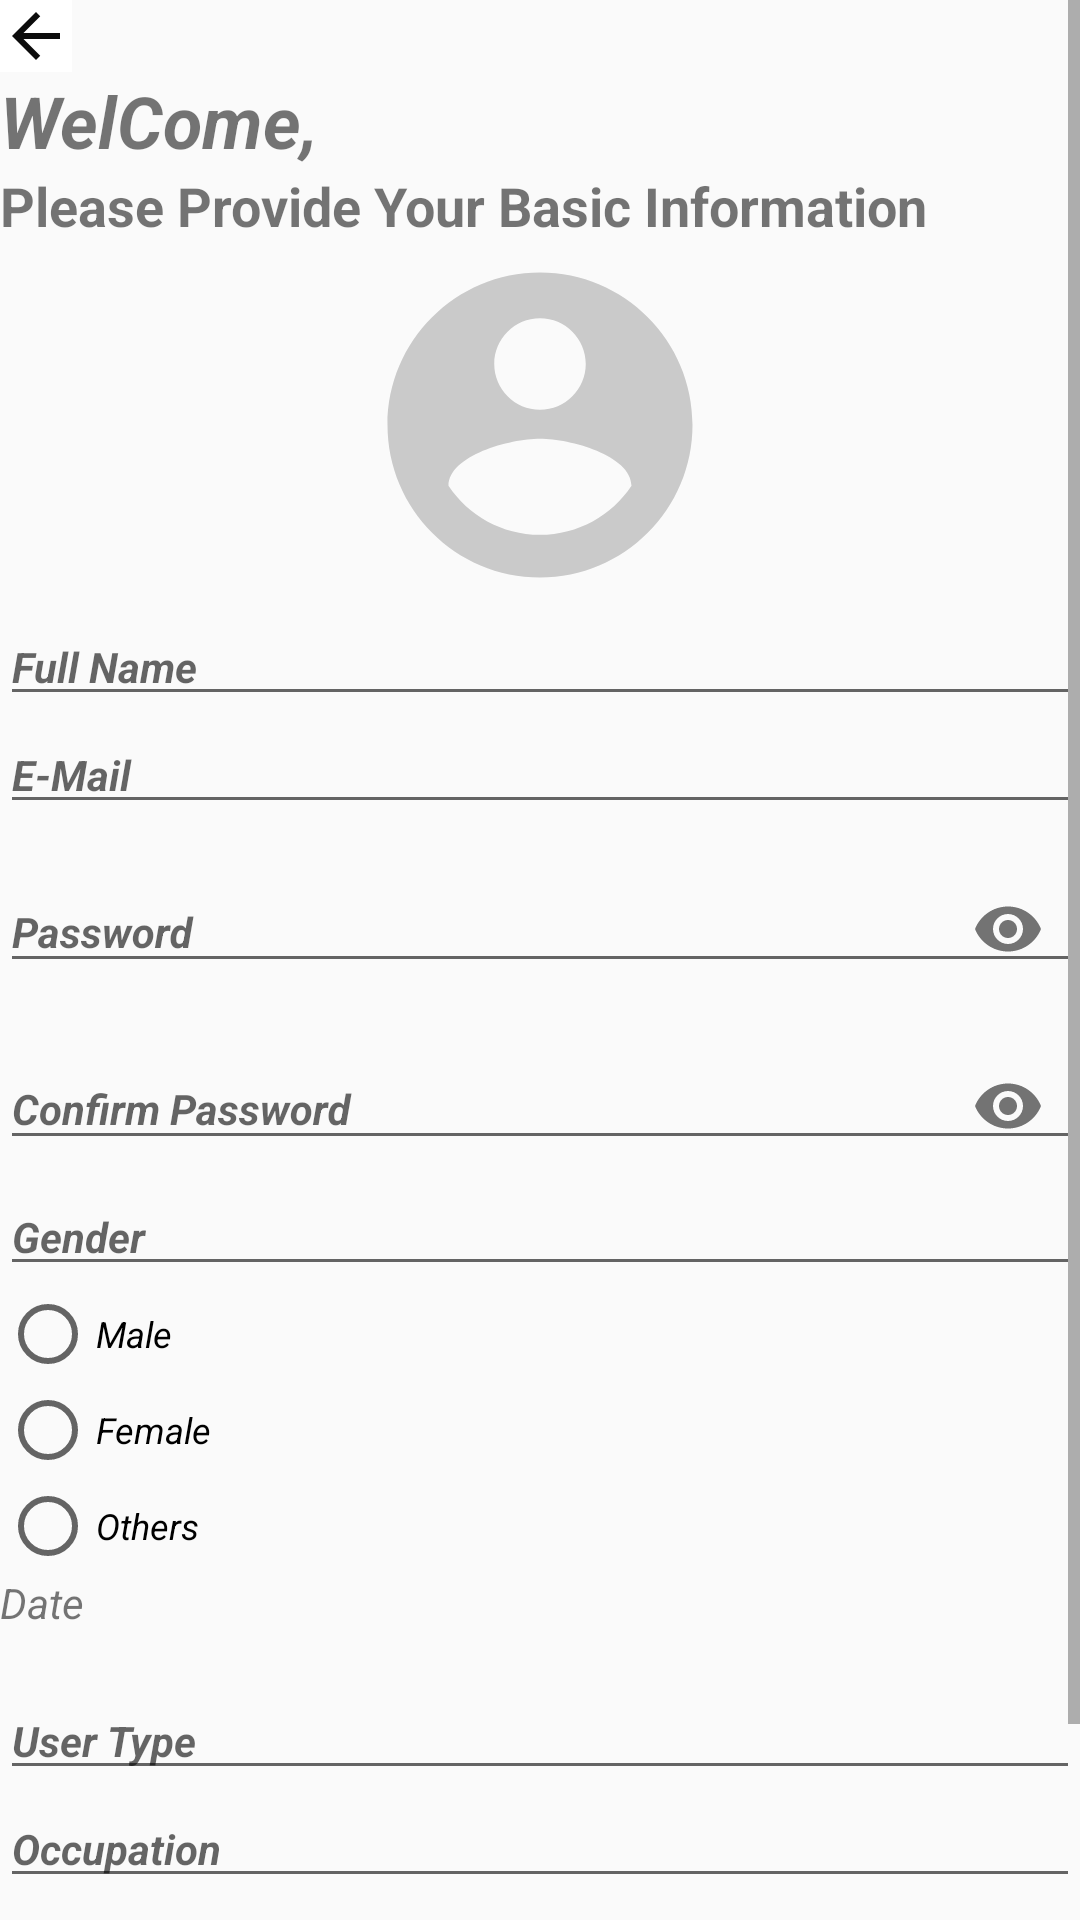

Screen size 1080px×1920px. Icon name, then its box in pixels as (x1, y1, x2, y2):
account circle: (387, 273, 692, 577)
arrow back: (12, 12, 60, 60)
